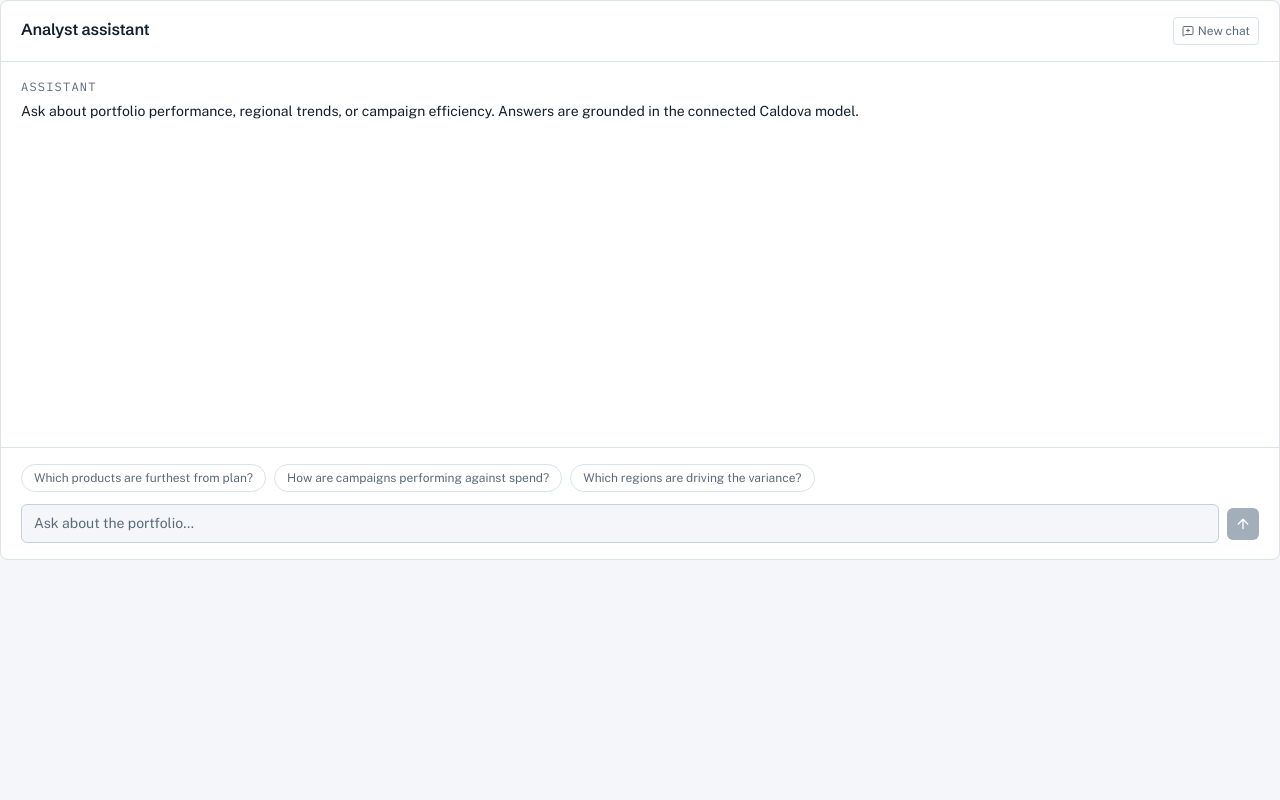
Test case: AssistantPanel › keeps a new chat from adopting an in-flight answer
Click the button "Which products are furthest from plan?".
click(144, 478)  # box [21,464,266,492]
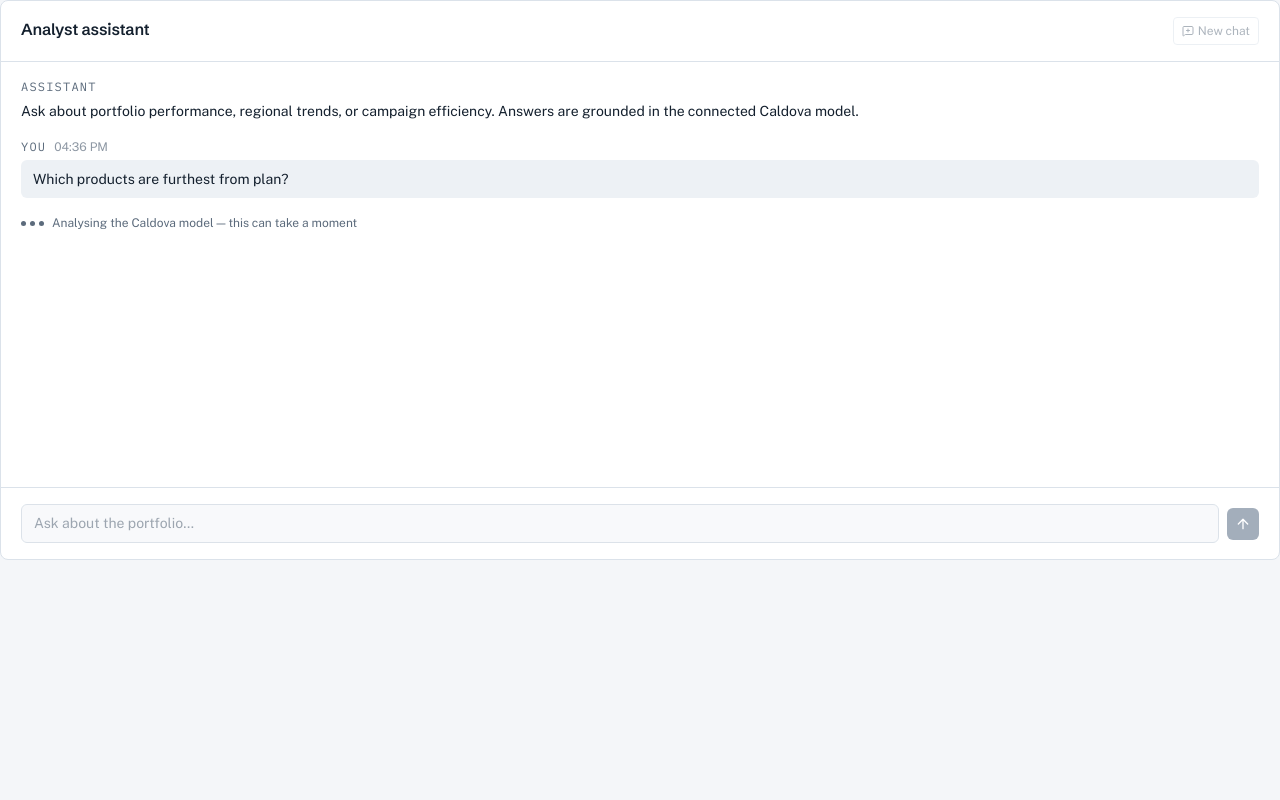
Now the text "Analysing the Caldova model — this can take a moment" is shown, box [21,216,357,230]
Now the button "New chat" is disabled, box [1173,17,1259,45]
